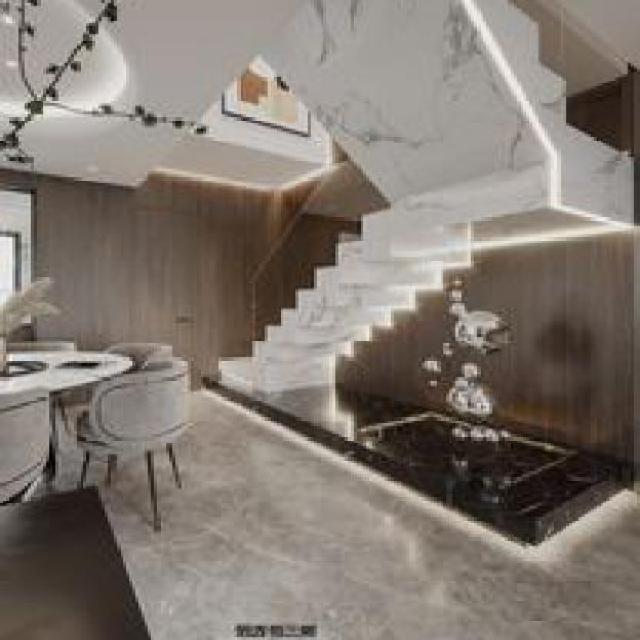stair: (206, 200, 437, 403)
